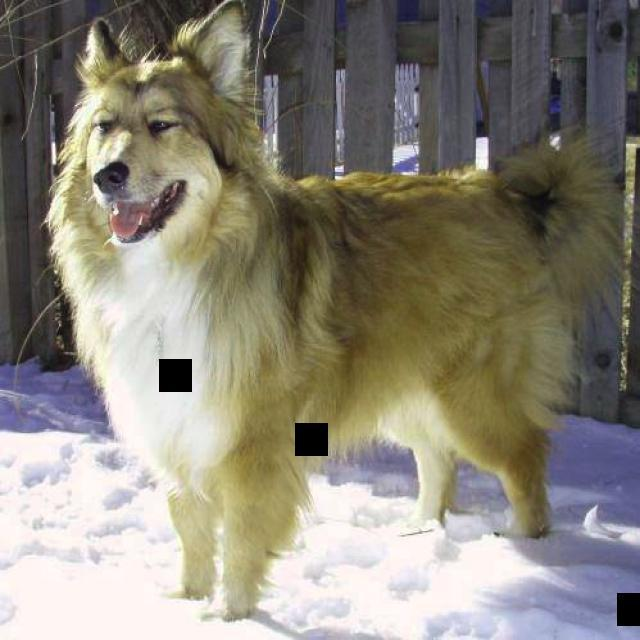adult_dog: (46, 0, 634, 624)
